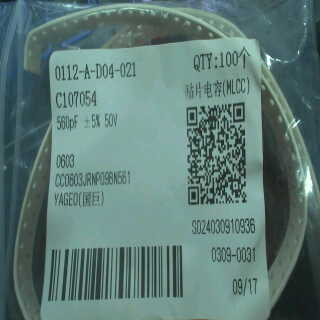560pF: (55, 111, 81, 134)
